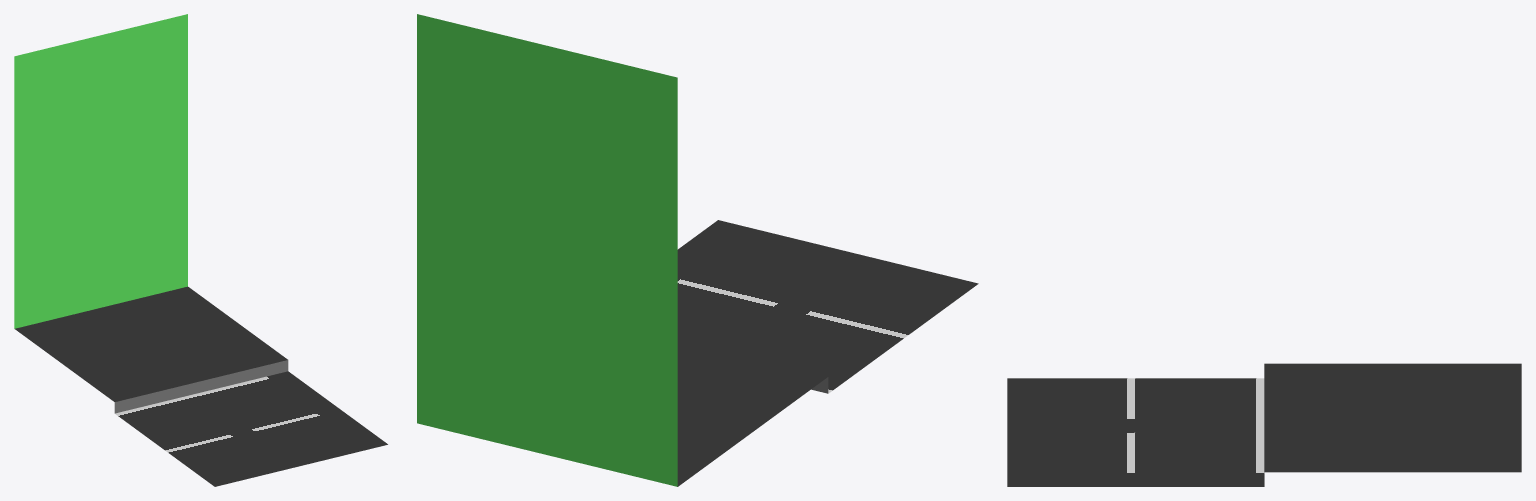
Rendered from ground.glb.
3 views of the same model, side by side, from view 1: azimuth 30°, elevation 25°; view 2: azimuth 150°, elevation 25°; view 3: azimuth 270°, elevation 25° (orthographic). The views are drawn at different scales.
Visible parts, largest first — view 1: Plane; view 2: Plane; view 3: Plane.
Boxes of the visible parts, bbox=[...] form: Plane: bbox=[14, 14, 387, 486]; Plane: bbox=[417, 14, 978, 486]; Plane: bbox=[1007, 363, 1521, 486].
Bounding box in the file's own units: 2 × 3.12 × 4.
Materials: 1 (1 with a texture image).
